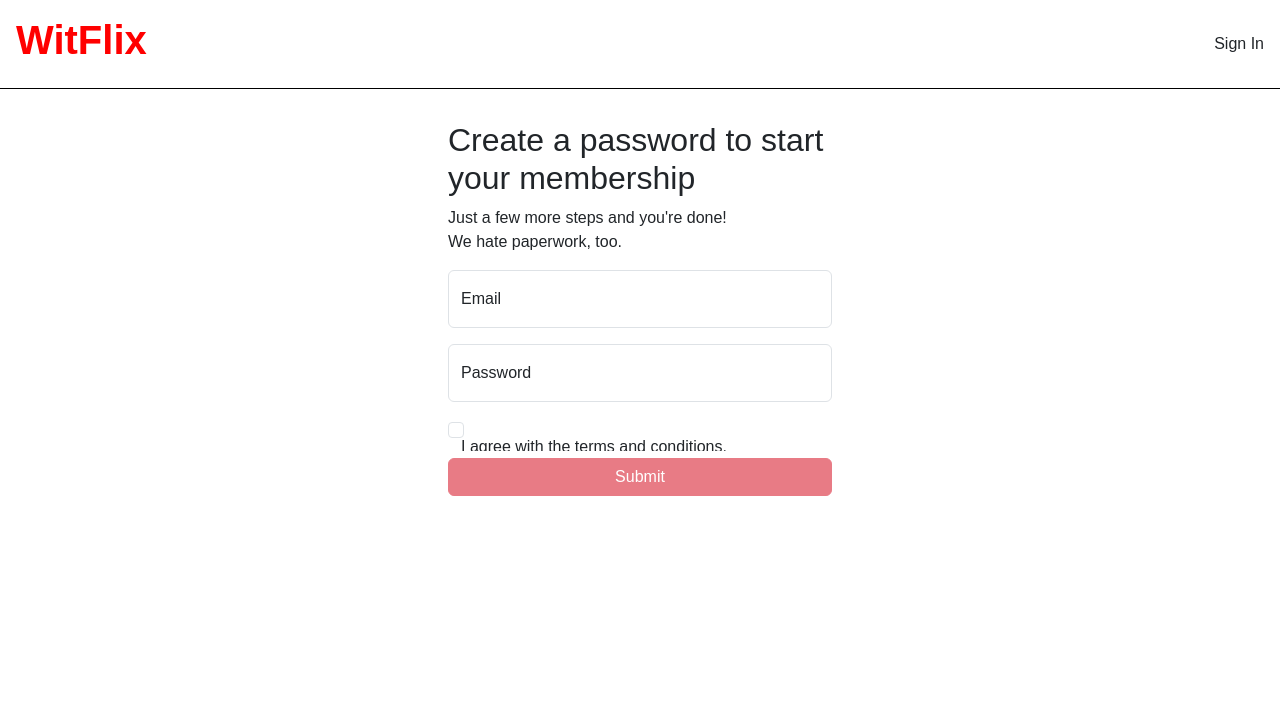
Test case: Login From Tests › Success Tests › button is enabled for correct credentials
In the password field with test id "password-input": (640,373) [448,344,832,402], type "12345678Aa"
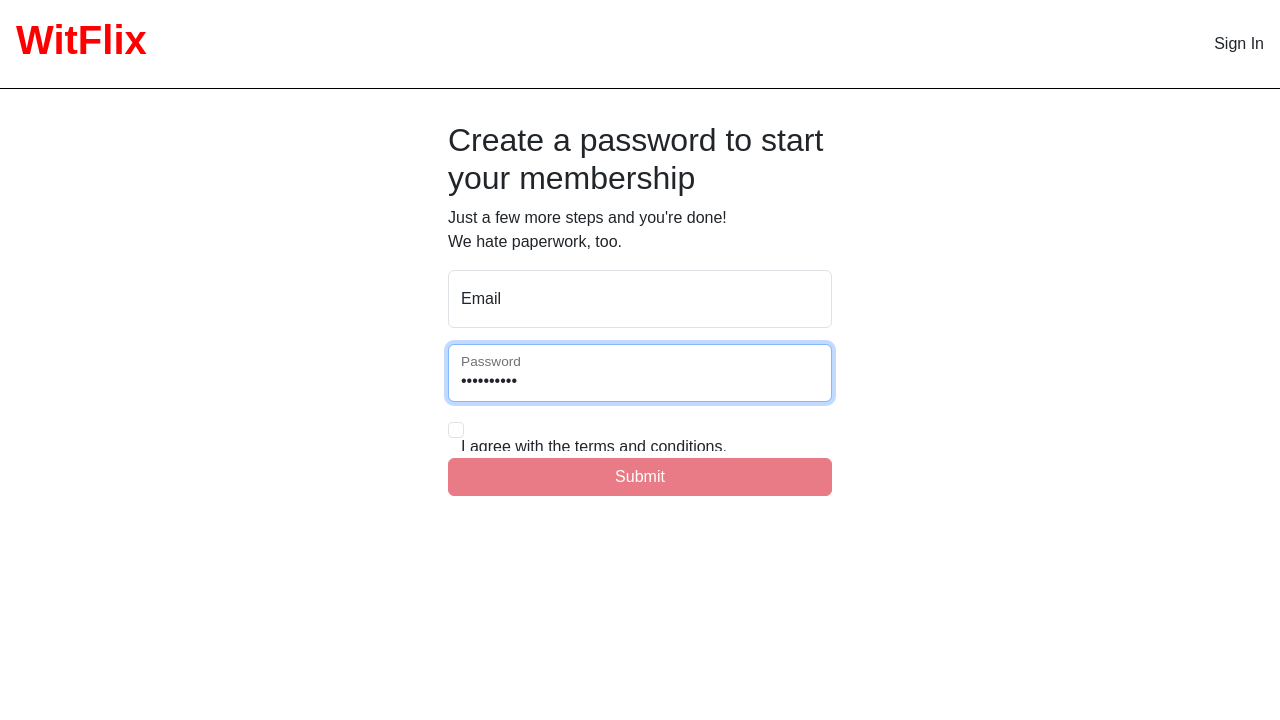
In the field with test id "email-input": (640,299) [448,270,832,328], type "emre@wit.com.tr"
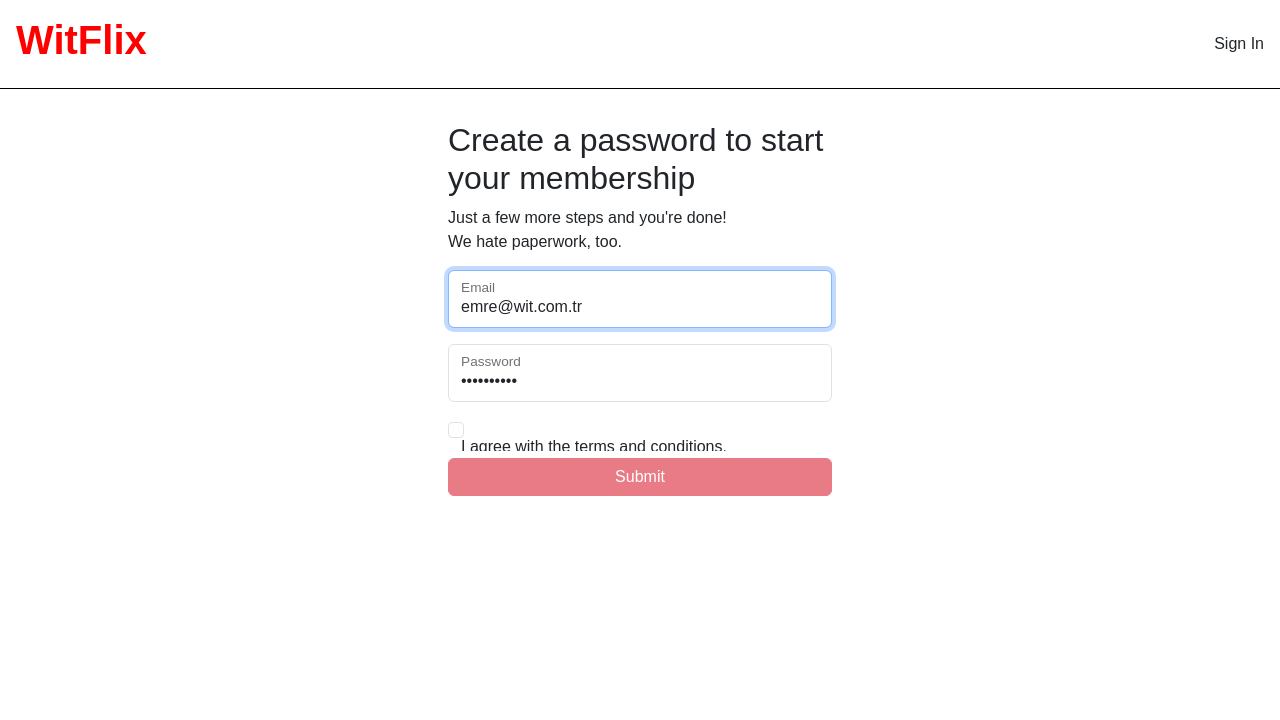
Check the checkbox with test id "terms-input": (456,430) [448,422,464,438]
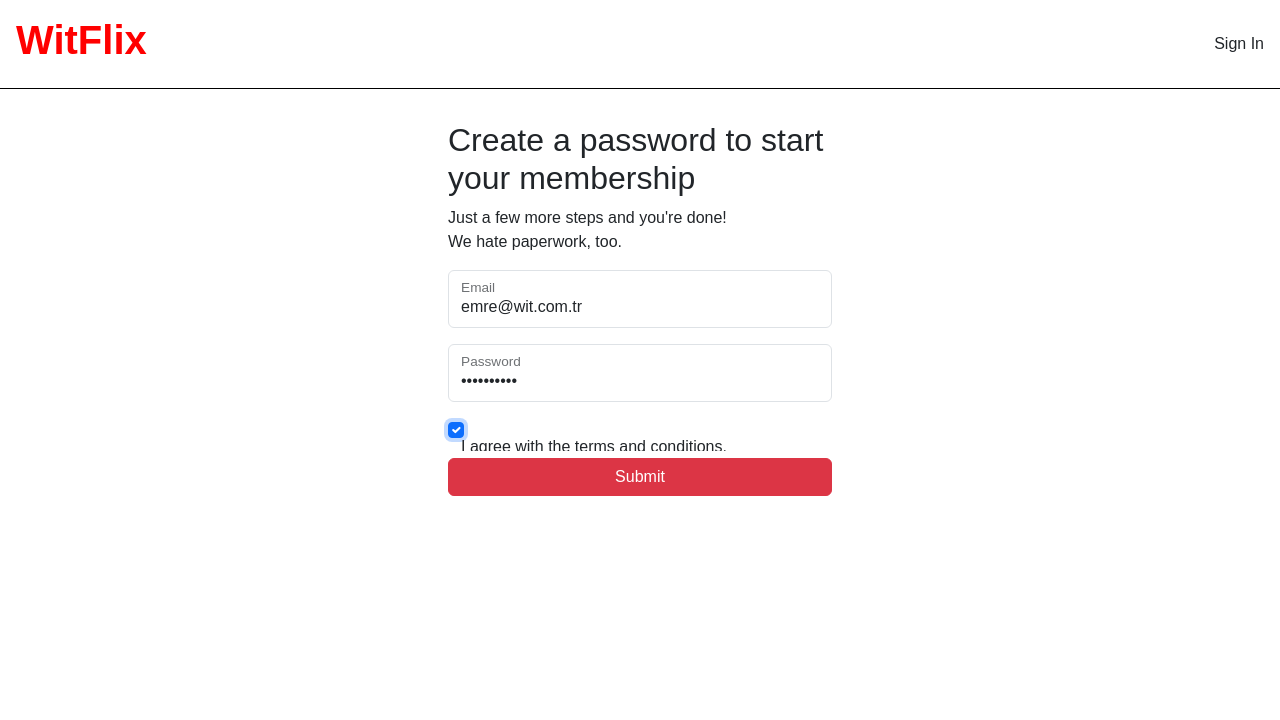
Expected: the button with test id "submit-button" is enabled, [448,458,832,496]
